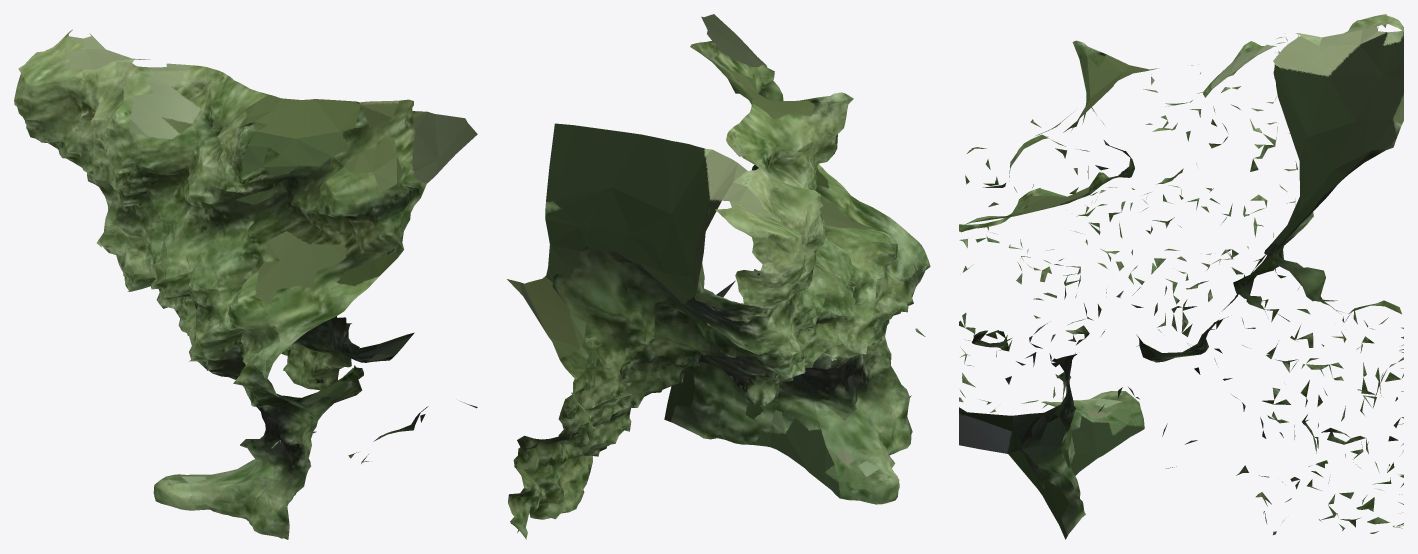
3 renders of one model, left to right at view 1: azimuth 30°, elevation 25°; view 2: azimuth 150°, elevation 25°; view 3: azimuth 270°, elevation 25°, orthographic. The views are drawn at different scales.
Size of the model in its own units: 1.55 by 1.97 by 1.97.
Materials: 1 (1 with a texture image).
